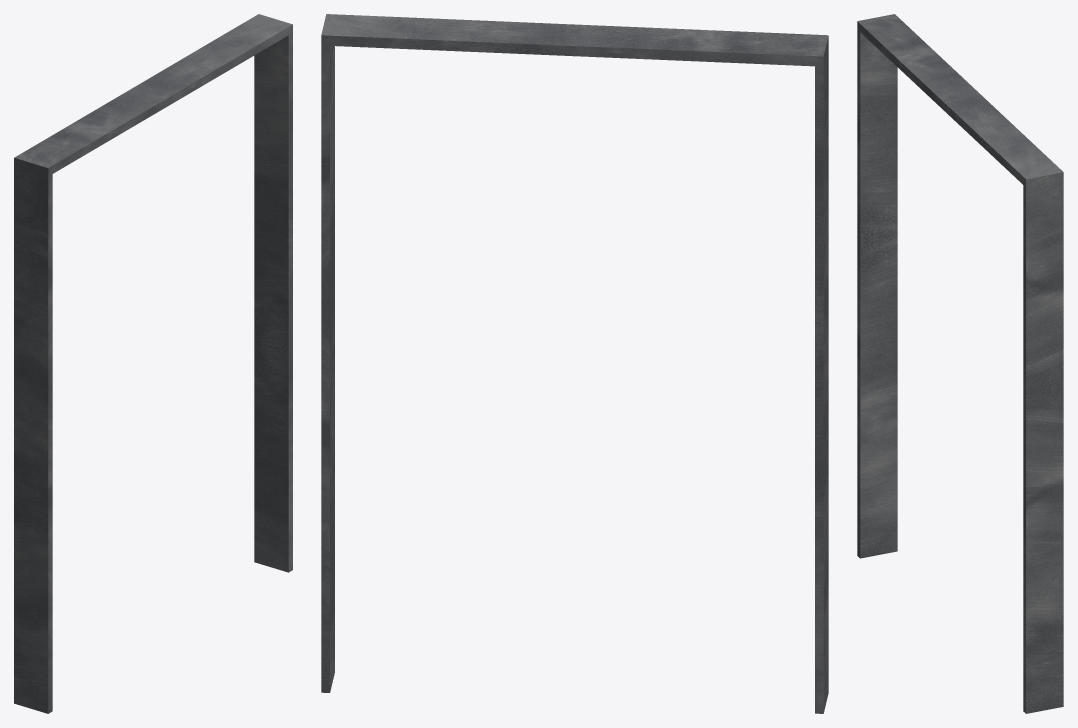
File: main_doorline.fbx
3 renders of one model, left to right at view 1: azimuth 30°, elevation 25°; view 2: azimuth 150°, elevation 25°; view 3: azimuth 270°, elevation 25°, orthographic. The views are drawn at different scales.
Visible parts, largest first — view 1: door_line; view 2: door_line; view 3: door_line.
Boxes of the visible parts, x1,y1,x2,y2 form: door_line: (14,14,292,713); door_line: (321,14,828,713); door_line: (857,14,1063,713).
Bounding box in the file's own units: 2.2 × 3.31 × 1.16.
